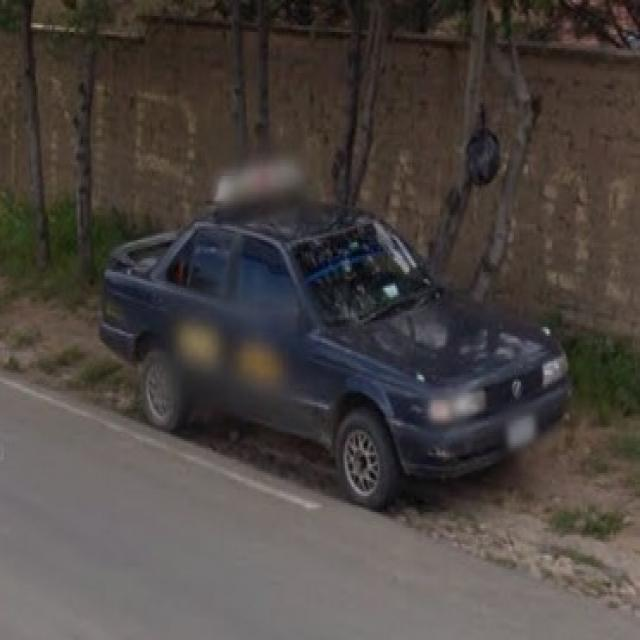Car: (102, 175, 580, 488)
